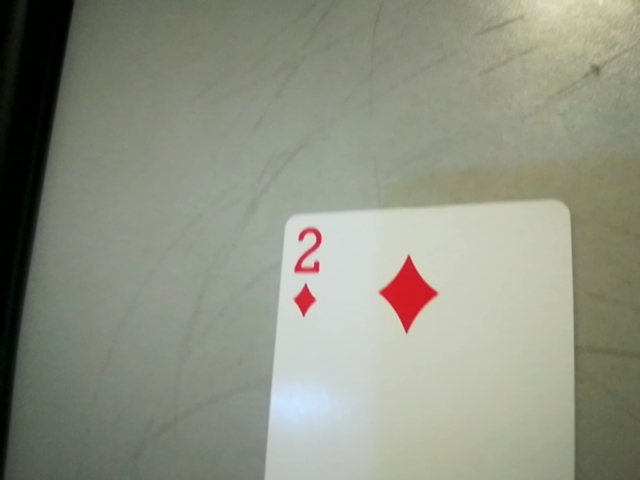fk 2: (278, 218, 339, 324)
